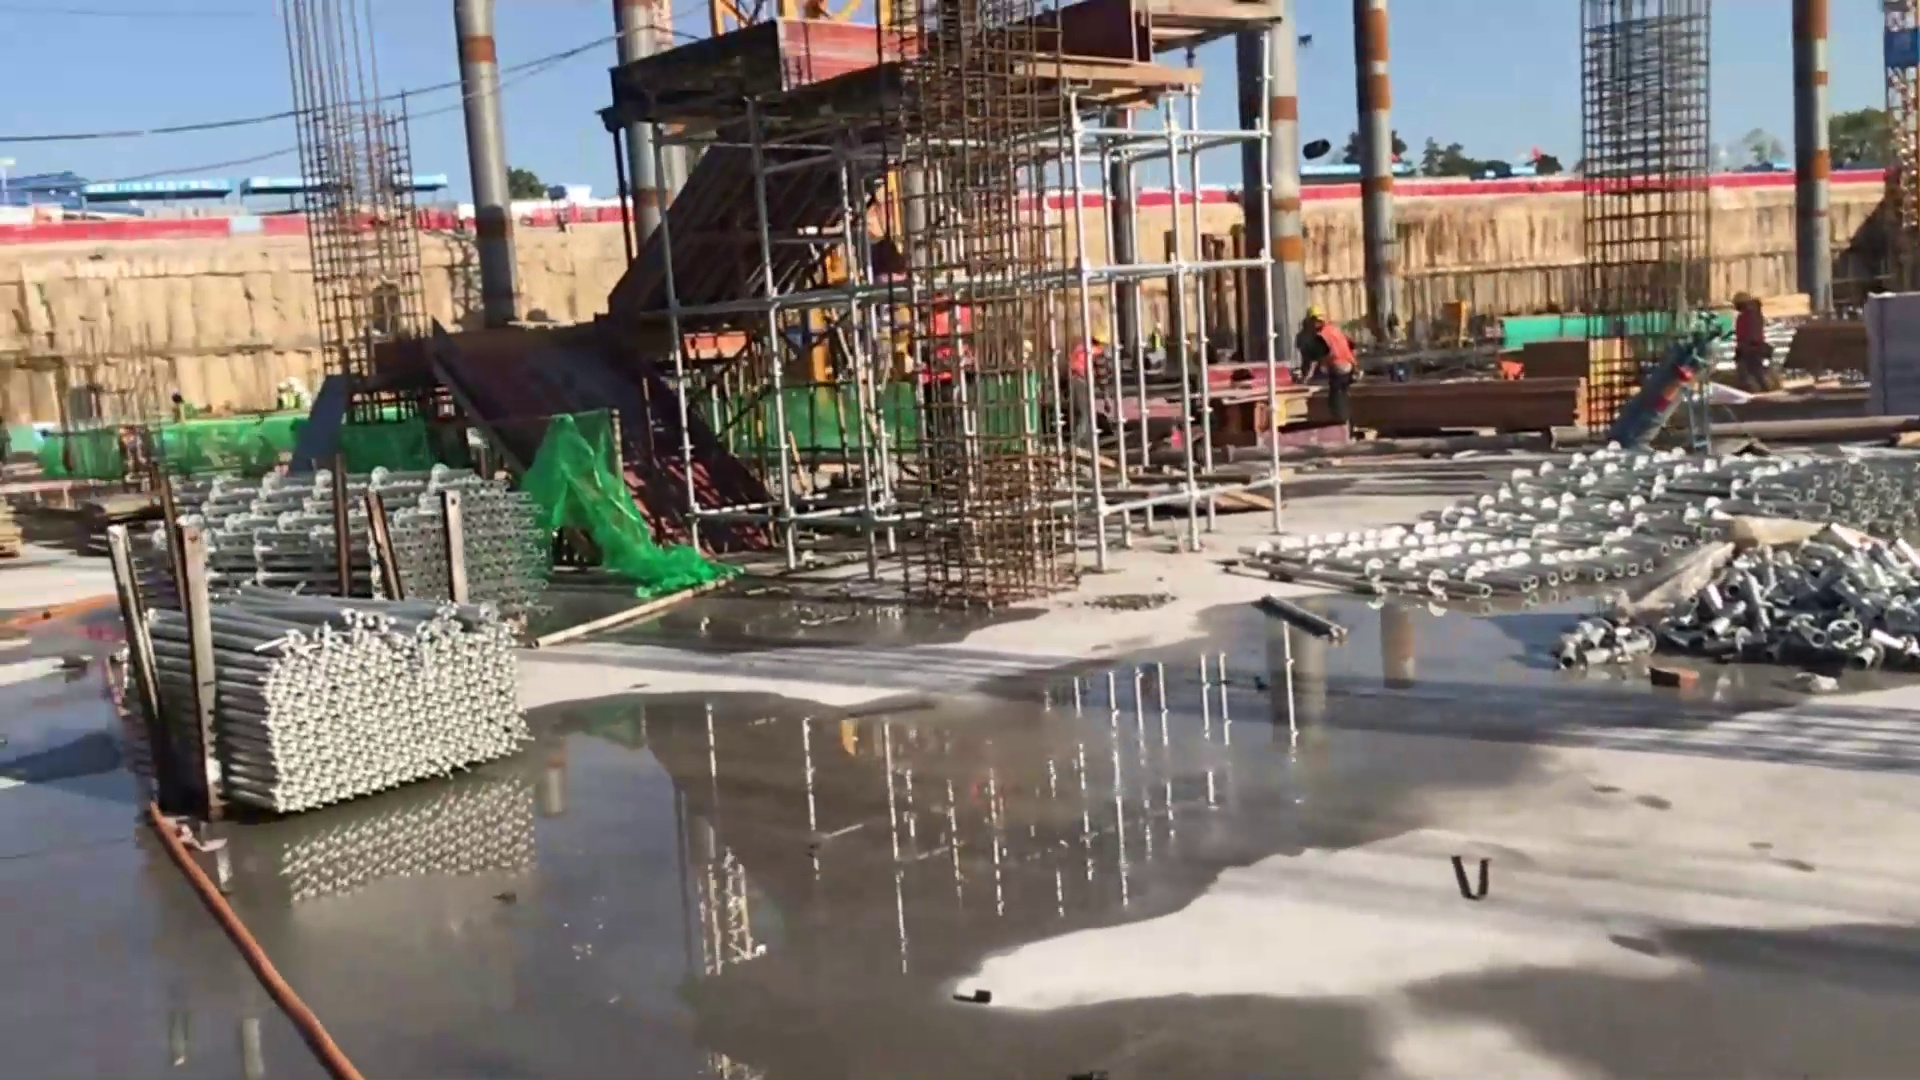person: (1301, 304, 1362, 429)
scaffold: (150, 581, 525, 819), (1317, 458, 1920, 549), (175, 466, 550, 606)
